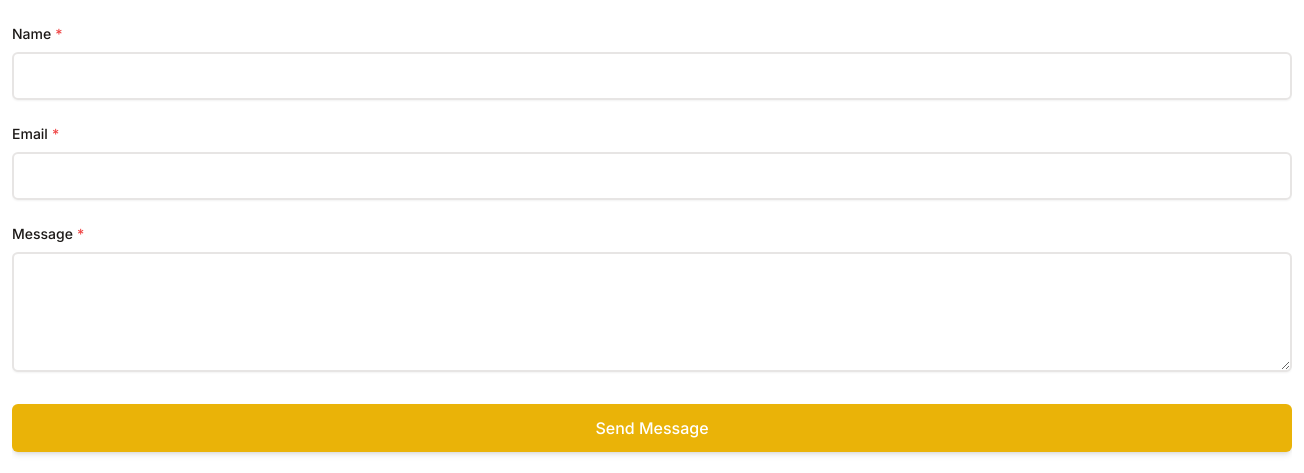
Test: ContactForm › displays success message after successful submission
# Fill and submit form
Type "John Doe" into the field labelled "Name*". click: {"x": 652, "y": 76}
box: [12,52,1292,100]
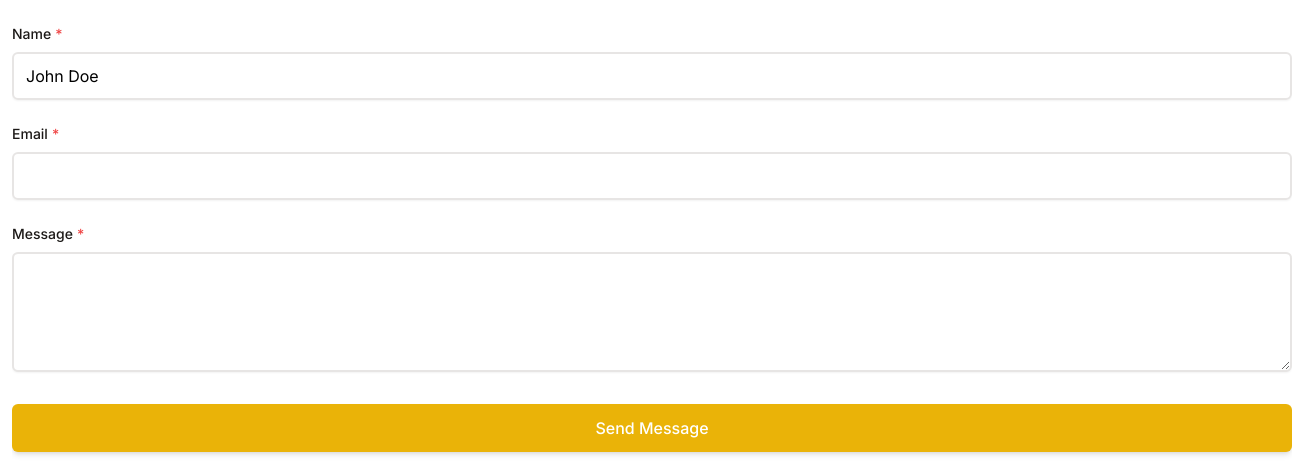
Type "john@example.com" into the field labelled "Email*". click: {"x": 652, "y": 176}
box: [12,152,1292,200]
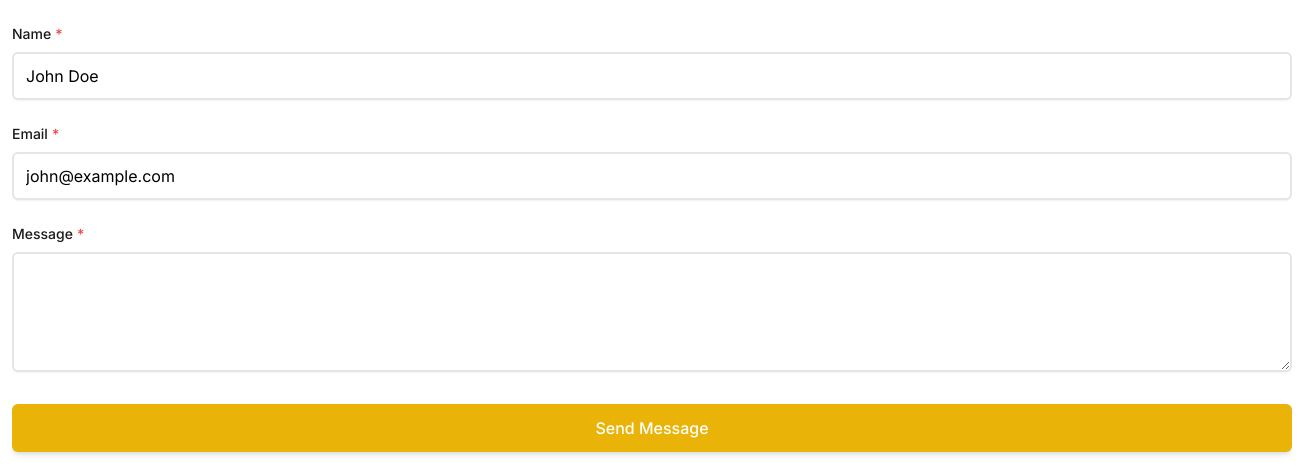
Type "Test message" into the text box labelled "Message*". click: {"x": 652, "y": 312}
box: [12,252,1292,372]
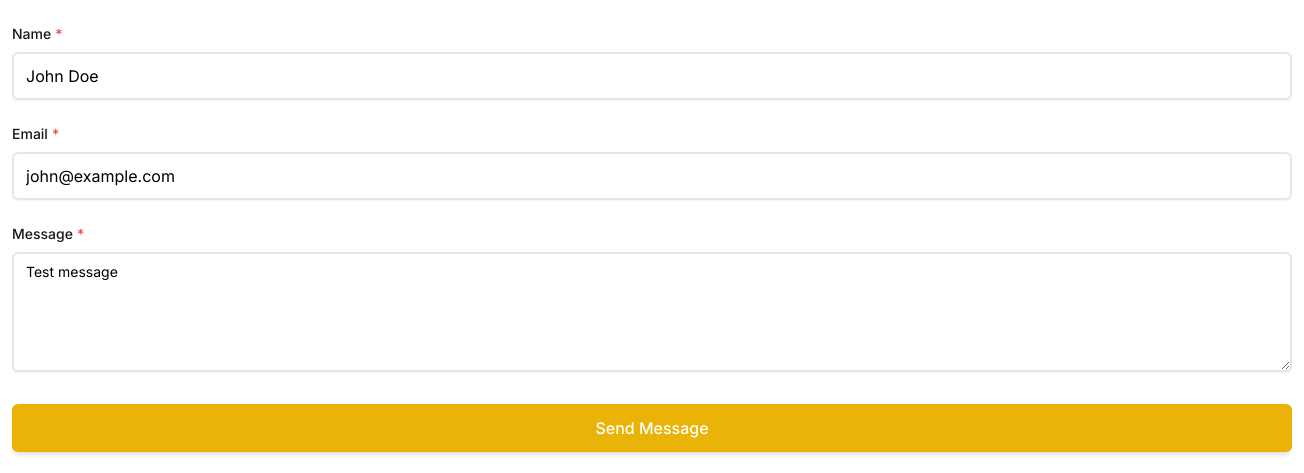
Click the button "Send Message". click: {"x": 652, "y": 428}
box: [12,404,1292,452]
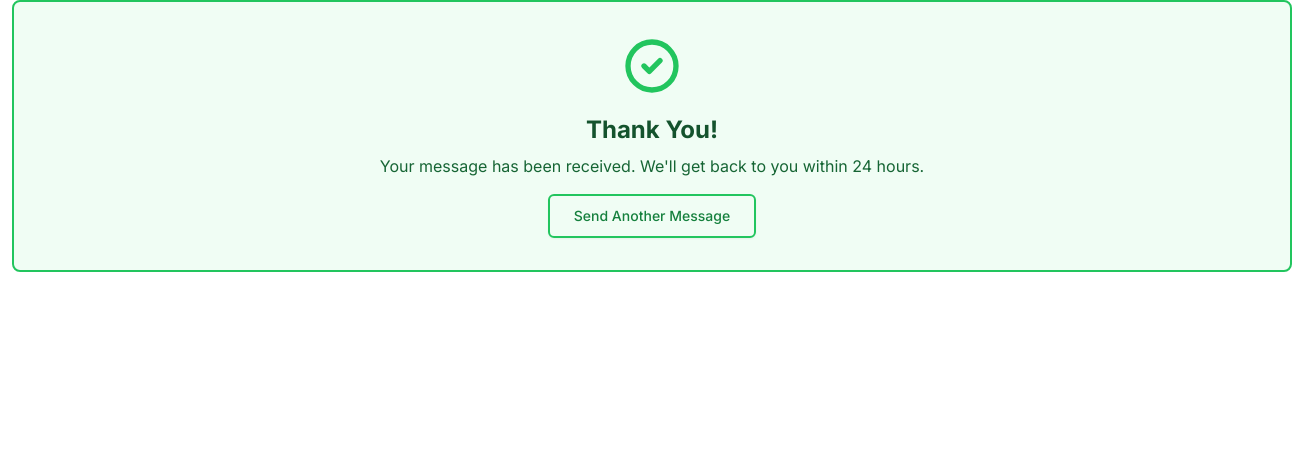
expect the heading "Thank You!" is shown: met, box [586,115,718,144]
